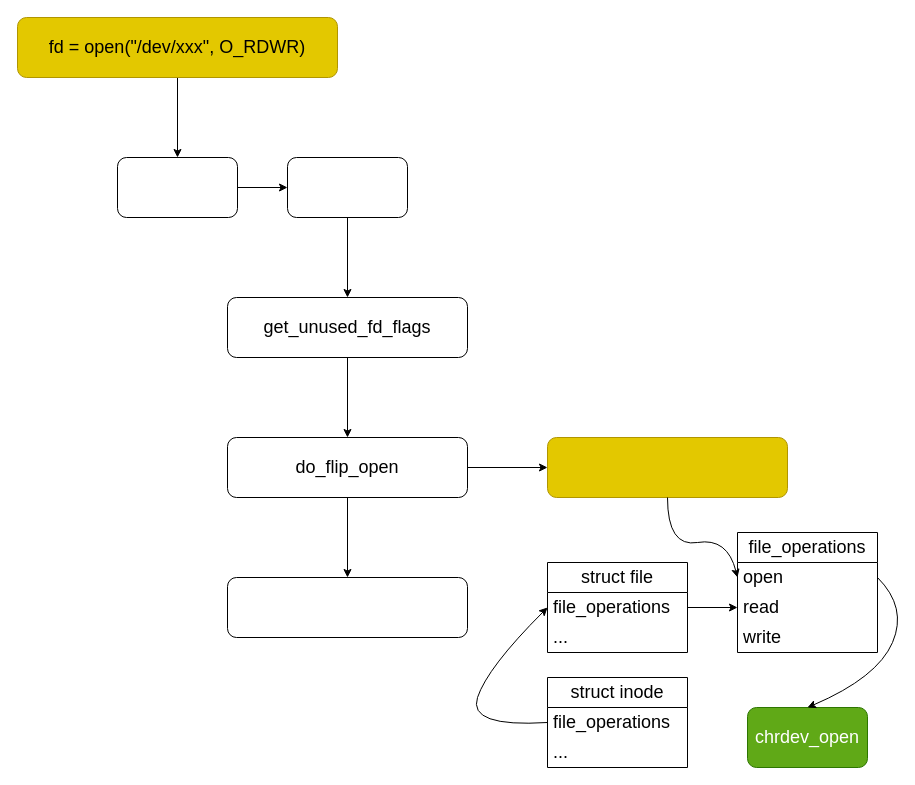
This 915x785 diagram has some shape labels left out. The shapes that lost their labels are listed below. From the top down, each one's centre as x and y in pixels, then its label:
At (177,187): "sys_open".
At (347,187): "do_sys_open".
At (667,467): "do_dentry_open".
At (347,607): "fd_install".
